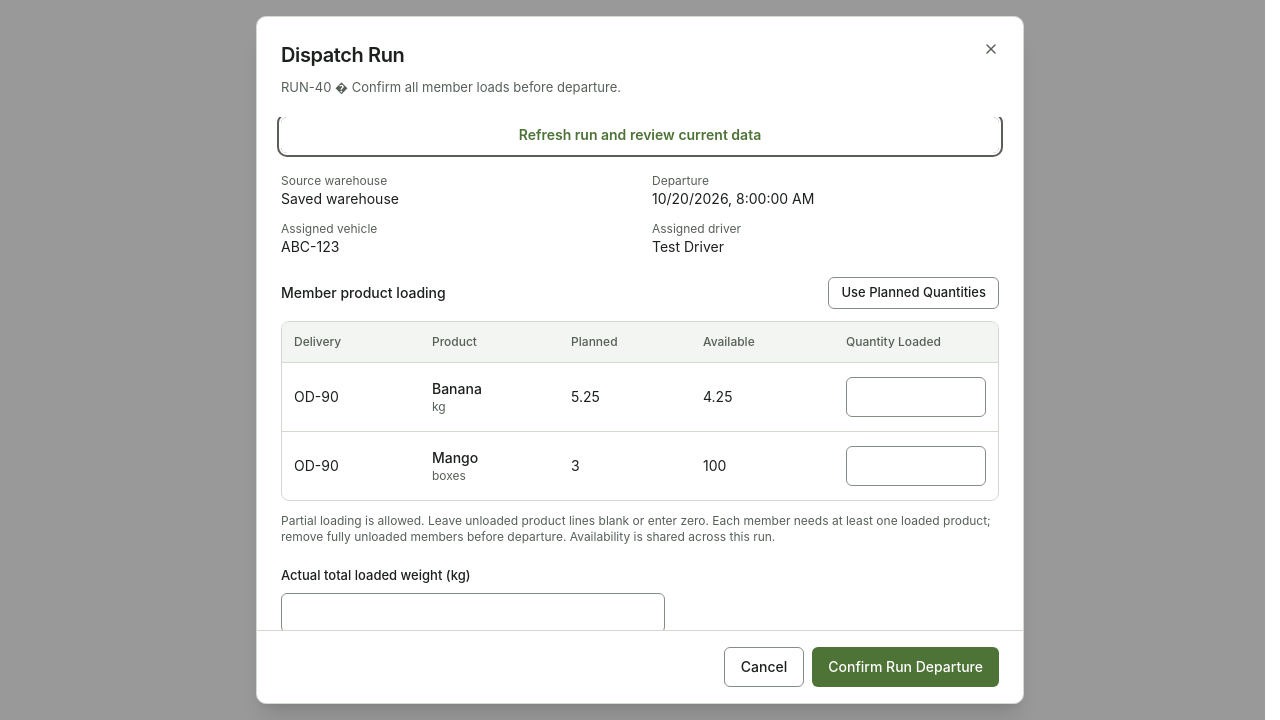
Test: rejects invalid or excessive actual member load -1
expect the button "Confirm Run Departure" is enabled: met, box 812,647 -> 999,687
Type "-1" into the field named "Quantity loaded for Banana on OD-90" in the row of "Banana".
click(916, 396); type("-1")  # box 846,376 -> 986,416
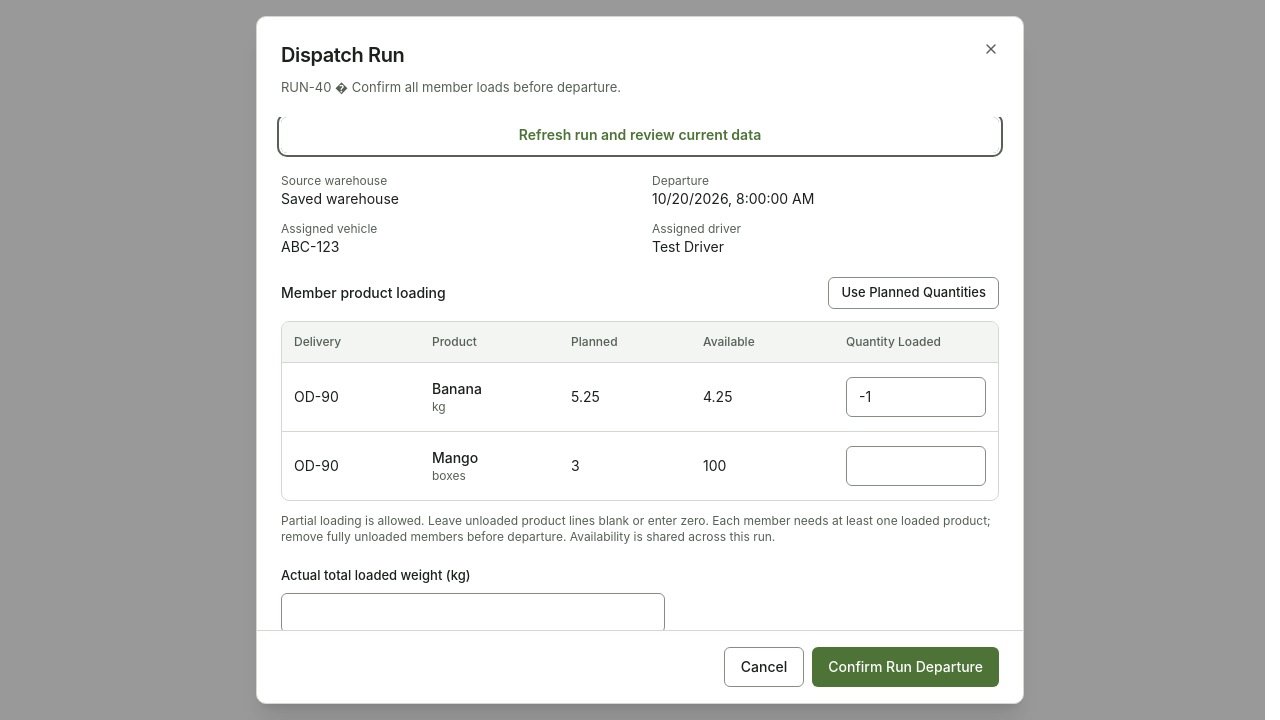
Type "10.00" into the field labelled "Actual total loaded weight (kg)".
click(473, 612); type("10.00")  # box 281,592 -> 665,632
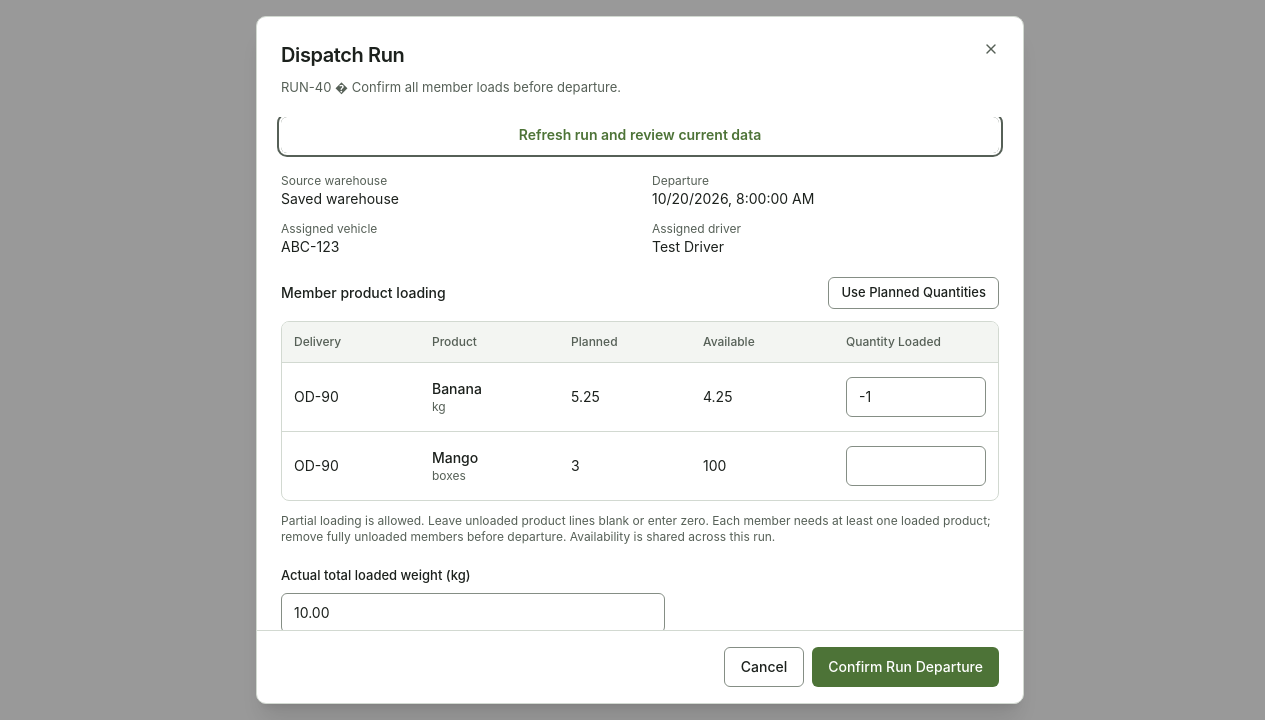
Submit the form, box 257,117 -> 1023,703
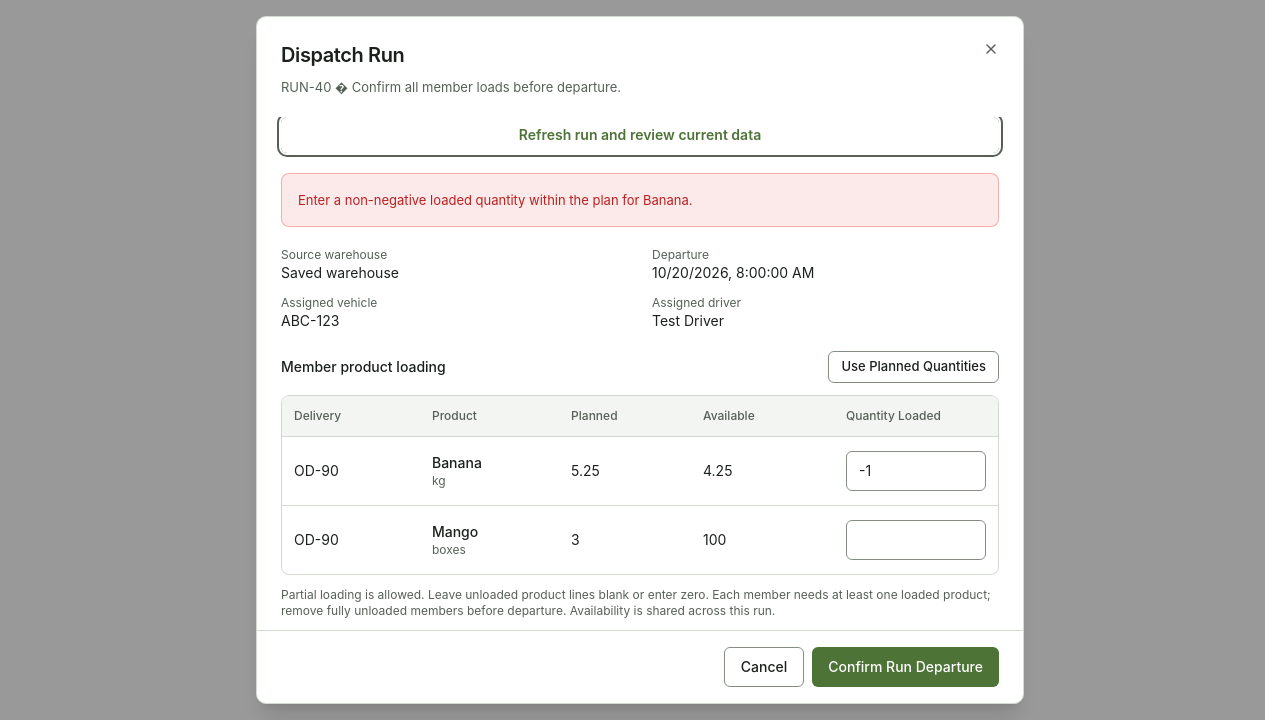
expect the message "Enter a non-negative loaded quantity within the plan for Banana." is shown: met, box 281,173 -> 999,227
